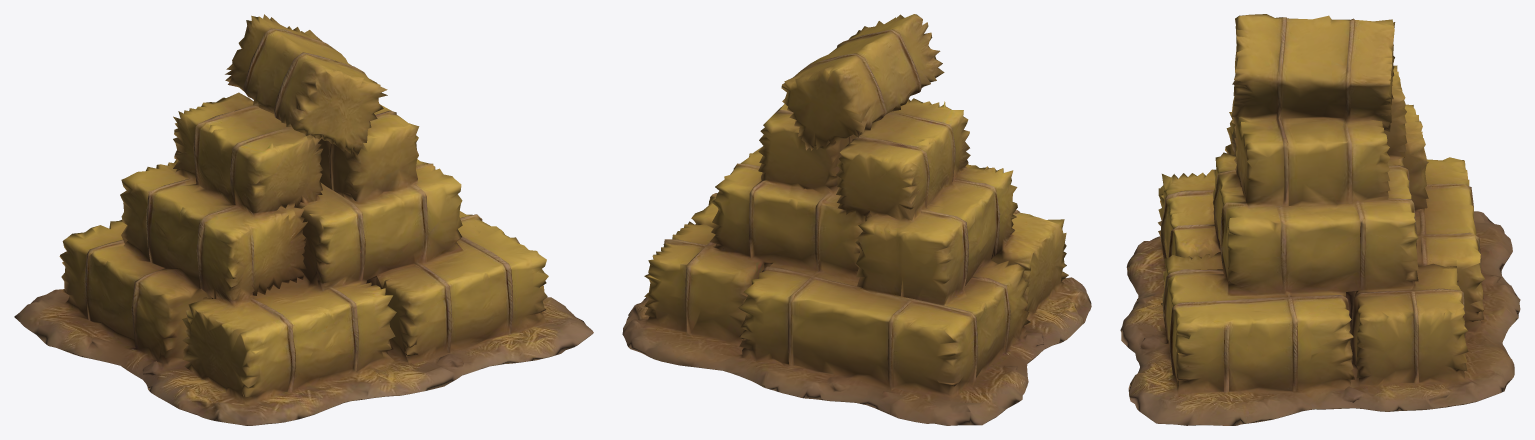
Rendered from cattle_market_hay.glb.
3 views of the same model, side by side, from view 1: azimuth 30°, elevation 25°; view 2: azimuth 150°, elevation 25°; view 3: azimuth 270°, elevation 25° (orthographic). The views are drawn at different scales.
Visible parts, largest first — view 1: tripo_node_6f12046c-f2ae-4931-b771-dd8d06609121; view 2: tripo_node_6f12046c-f2ae-4931-b771-dd8d06609121; view 3: tripo_node_6f12046c-f2ae-4931-b771-dd8d06609121.
Part boxes in pixels (x1,y1,x2,y2): tripo_node_6f12046c-f2ae-4931-b771-dd8d06609121: (14, 14, 593, 425); tripo_node_6f12046c-f2ae-4931-b771-dd8d06609121: (622, 14, 1091, 425); tripo_node_6f12046c-f2ae-4931-b771-dd8d06609121: (1120, 14, 1520, 425).
Bounding box in the file's own units: 1 × 0.6506 × 0.7971.
Materials: 1 (1 with a texture image).
